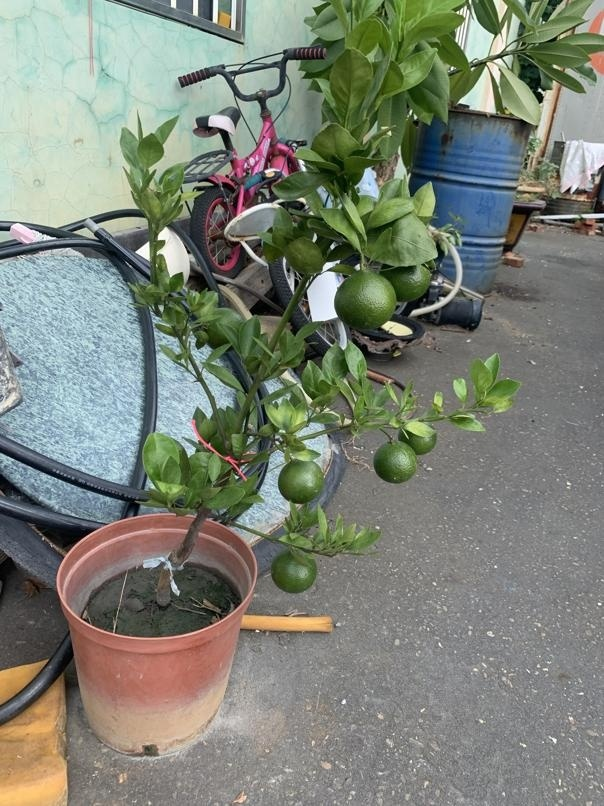Tangerine: (331, 268, 395, 330), (268, 546, 315, 595), (276, 458, 326, 503), (371, 437, 417, 485)
